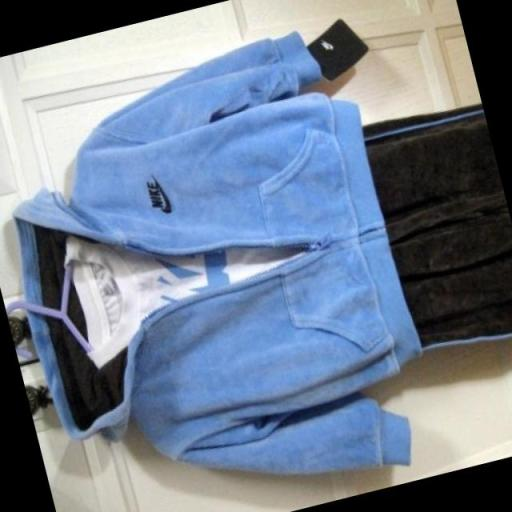Nike: (153, 175, 174, 215), (146, 180, 163, 210)
